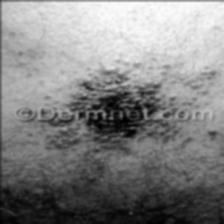Unclassified: (59, 60, 217, 104), (34, 126, 224, 155)
